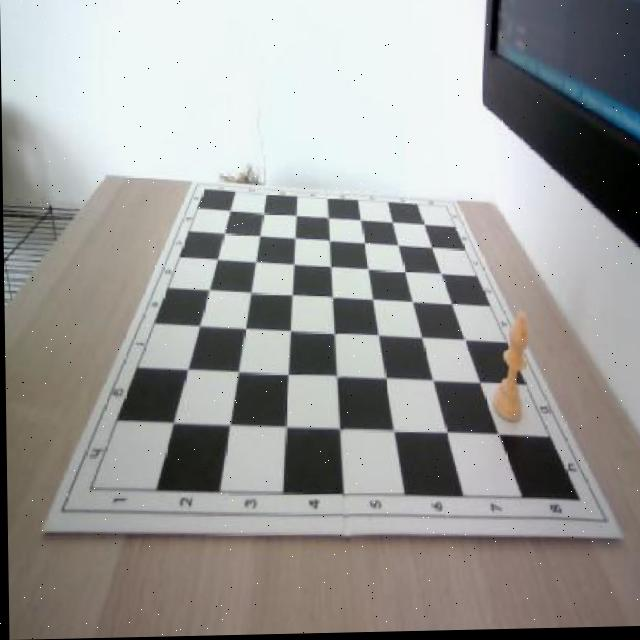black-rook: (490, 312, 529, 427)
